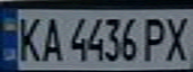3: (103, 15, 124, 63)
4: (63, 14, 87, 62), (84, 15, 106, 62)
6: (118, 15, 145, 63)
A: (36, 14, 66, 63)
K: (12, 12, 45, 63)
P: (139, 14, 172, 63)
X: (160, 12, 193, 63)
